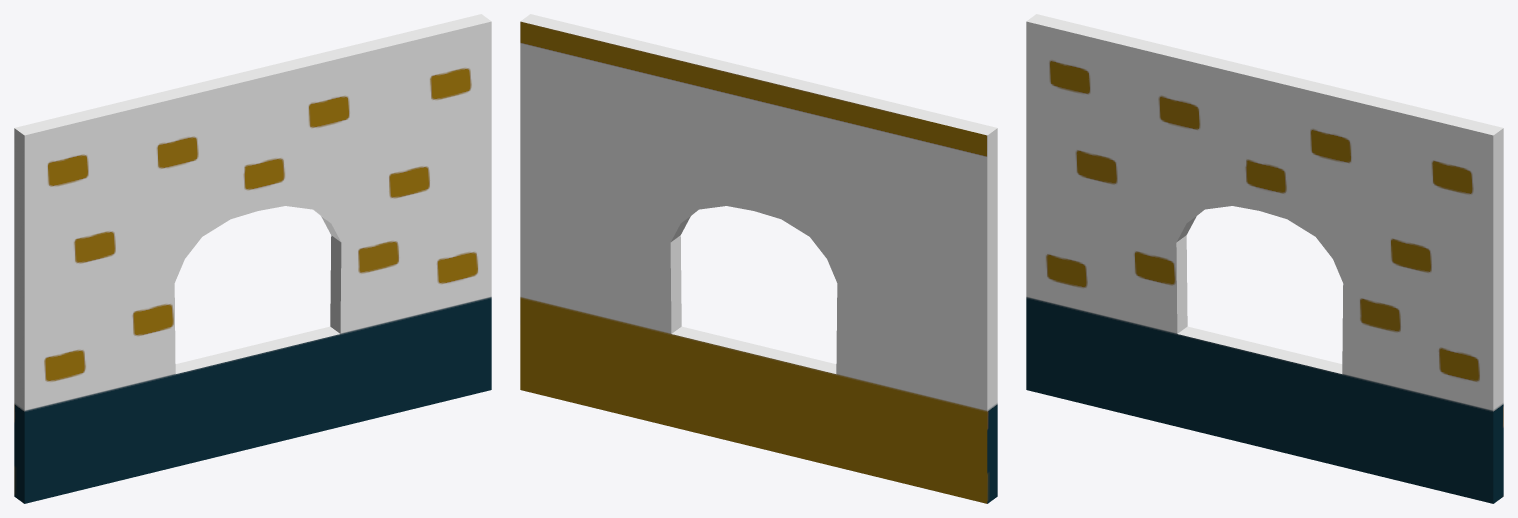
Rendered from KHIP_Middle_Window.FBX.
The picture shows the model from 3 angles, left to right: view 1: azimuth 30°, elevation 25°; view 2: azimuth 150°, elevation 25°; view 3: azimuth 330°, elevation 25°; orthographic projection.
Visible parts, largest first — view 1: KHIP_Middle_Window; view 2: KHIP_Middle_Window; view 3: KHIP_Middle_Window.
Part boxes in pixels (<box>): KHIP_Middle_Window: <box>14,14,491,503</box>; KHIP_Middle_Window: <box>520,14,997,503</box>; KHIP_Middle_Window: <box>1026,14,1503,503</box>.
Bounding box in the file's own units: 189 × 142 × 7.17.
